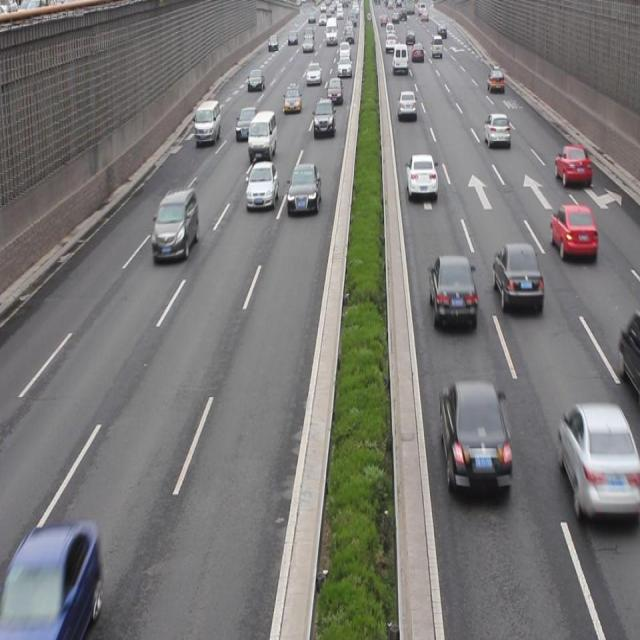car: (0, 524, 99, 629), (556, 402, 640, 524), (438, 382, 512, 501), (492, 240, 542, 316), (428, 254, 476, 332), (153, 189, 198, 263), (550, 205, 596, 263), (246, 156, 278, 211), (553, 140, 590, 186), (286, 163, 320, 213), (405, 153, 436, 200), (484, 113, 509, 148), (236, 107, 260, 141), (313, 99, 334, 136)
truck: (248, 112, 276, 159), (194, 99, 220, 142)
